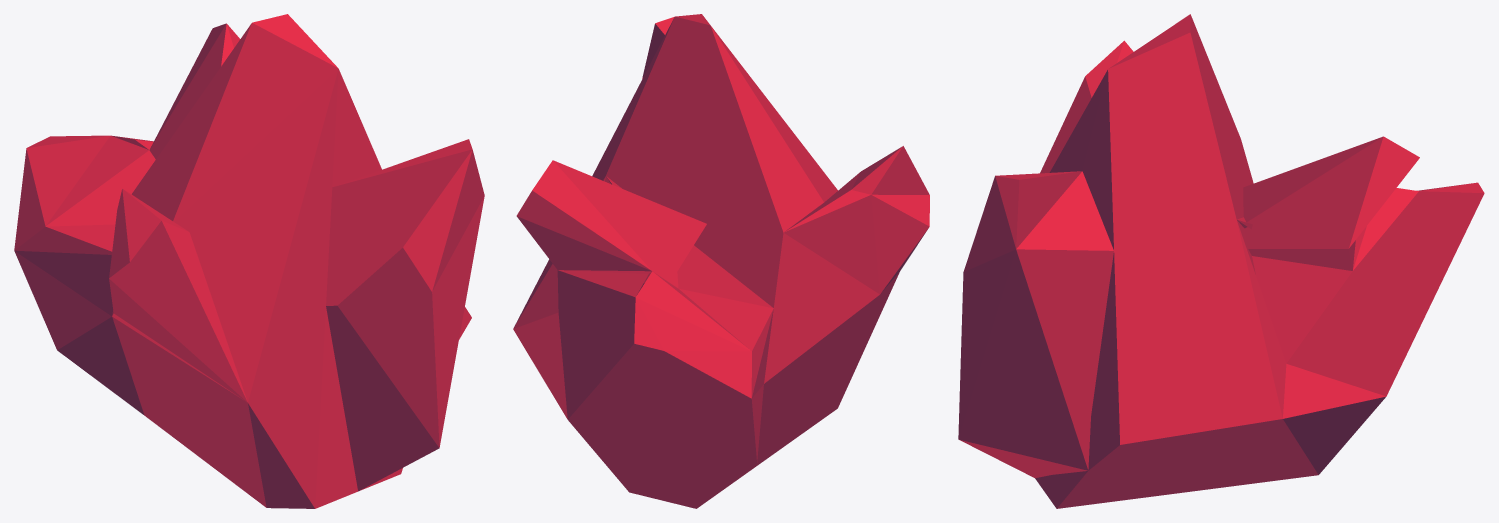
The model's file is crystal.fbx.
3 renders of one model, left to right at view 1: azimuth 30°, elevation 25°; view 2: azimuth 150°, elevation 25°; view 3: azimuth 270°, elevation 25°, orthographic. The views are drawn at different scales.
Visible parts, largest first — view 1: Cube; view 2: Cube; view 3: Cube.
Part boxes in pixels (bbox=[...]): Cube: bbox=[14, 14, 484, 508]; Cube: bbox=[513, 14, 929, 508]; Cube: bbox=[958, 14, 1484, 508].
Bounding box in the file's own units: 181 × 200 × 212.
